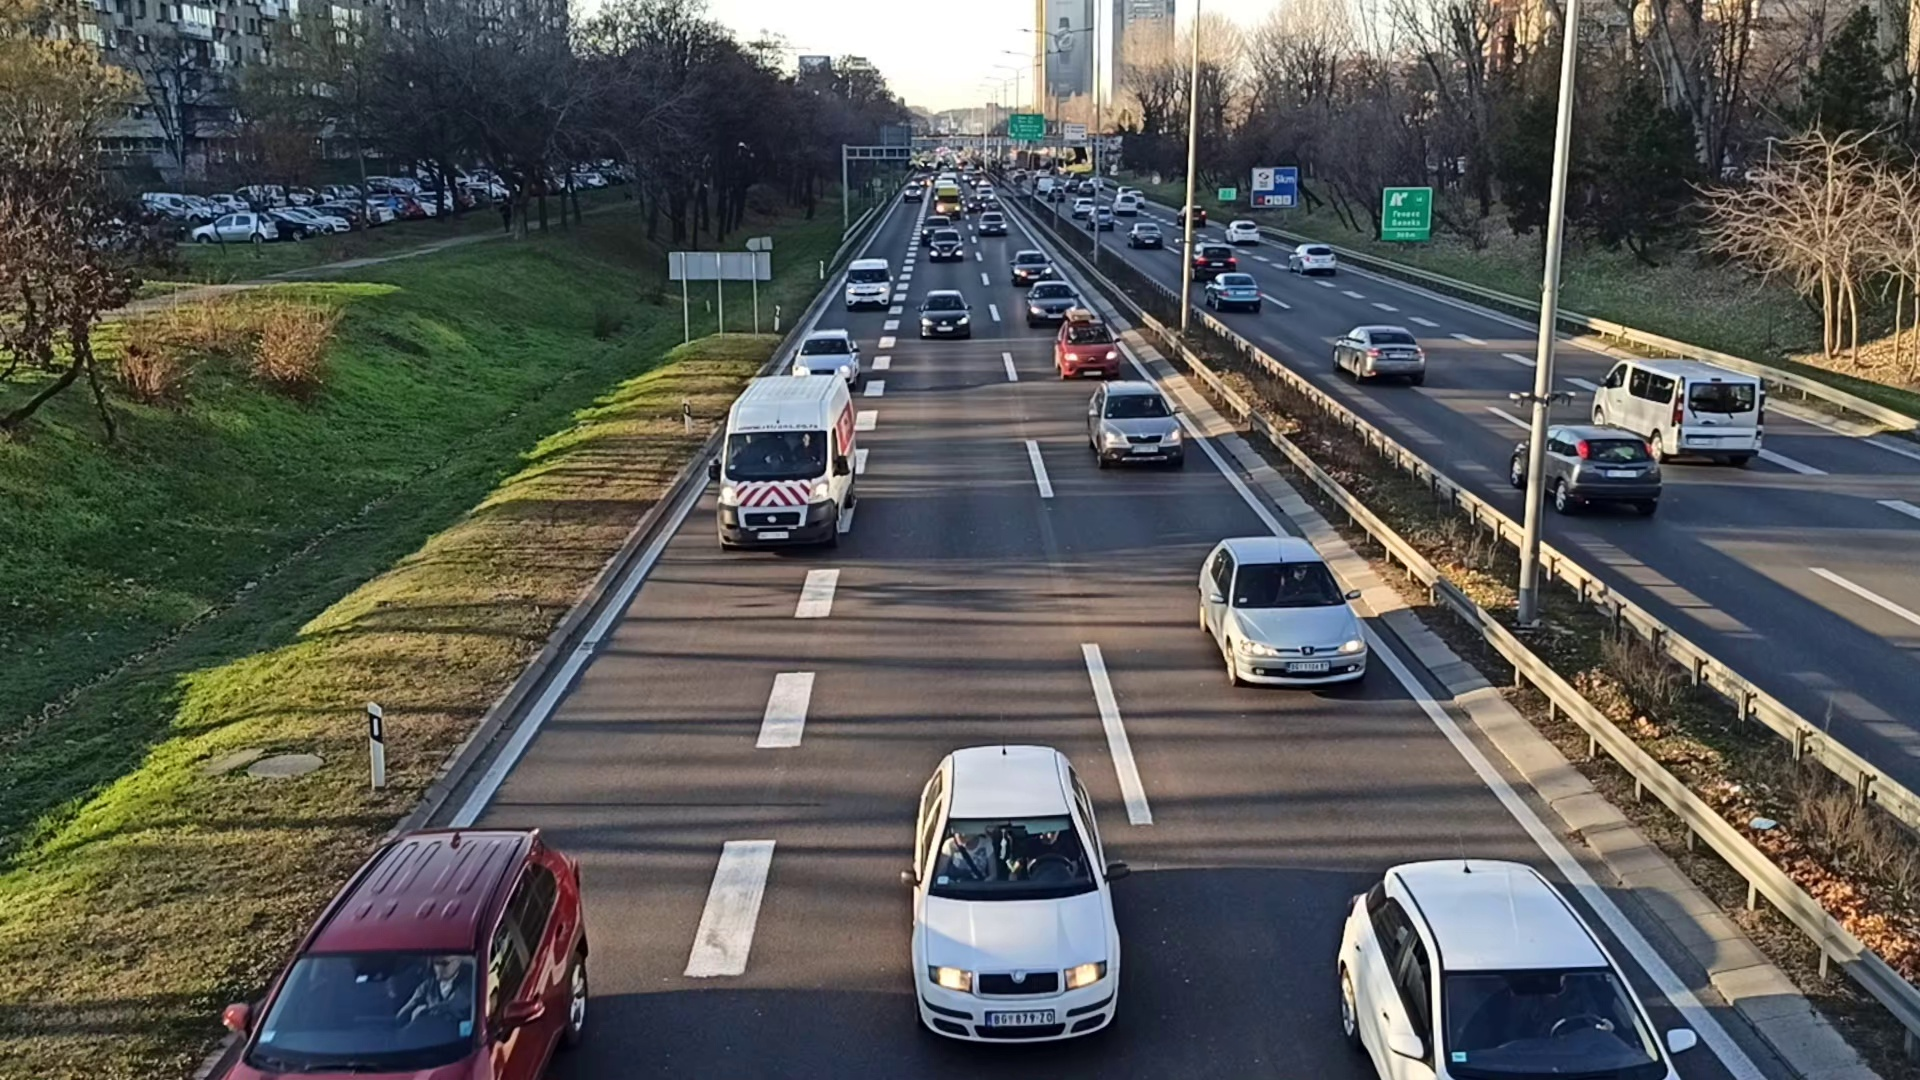car: (914, 742, 1120, 1044), (1192, 531, 1369, 688), (1513, 429, 1660, 522), (1087, 381, 1184, 473), (1335, 324, 1425, 385), (793, 328, 862, 384), (1055, 322, 1118, 378), (847, 256, 891, 309), (922, 289, 971, 336), (1201, 273, 1261, 311), (1030, 280, 1077, 327), (1011, 255, 1051, 284), (928, 229, 963, 260)
van: (719, 378, 860, 555), (1592, 357, 1767, 462)
